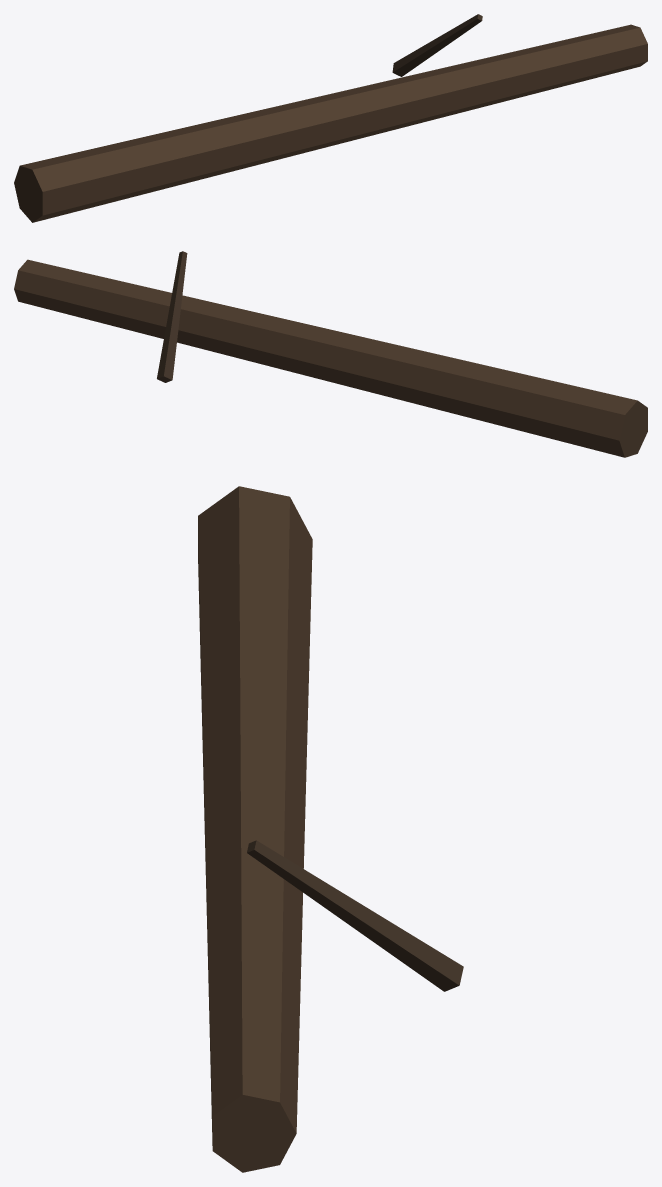
Rendered from env_log.glb.
3 renders of one model, top to bottom at view 1: azimuth 30°, elevation 25°; view 2: azimuth 150°, elevation 25°; view 3: azimuth 270°, elevation 25°, orthographic. The views are drawn at different scales.
Visible parts, largest first — view 1: env_log; view 2: env_log; view 3: env_log.
Part boxes in pixels (x1,y1,x2,y2): env_log: (14,14,647,222); env_log: (14,251,647,457); env_log: (198,486,463,1172).
Size of the model in its own units: 7 by 1.05 by 1.32.
